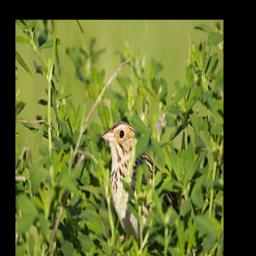Sparrow: (100, 119, 184, 255)
